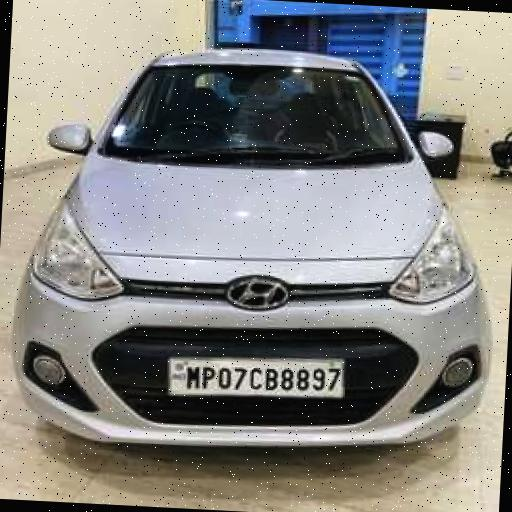license_plate`: (164, 346, 344, 403)
